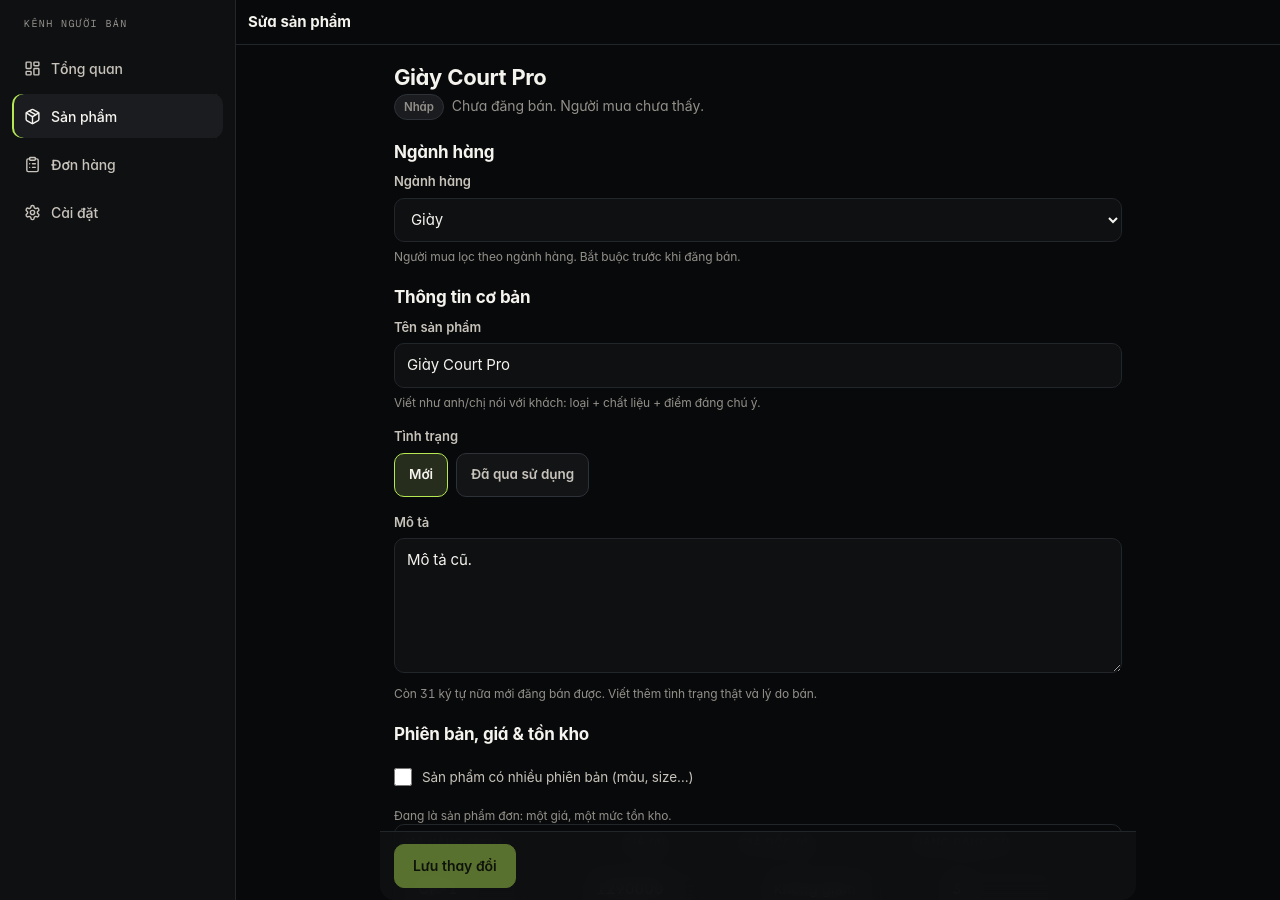
Test: no save branch can strand the button on Đang lưu… › shows the conflict panel for a stale version, not the generic error
Replace the text in the field labelled "Tên sản phẩm" with "Tên mới" at (758, 365), box [394,343,1122,388]
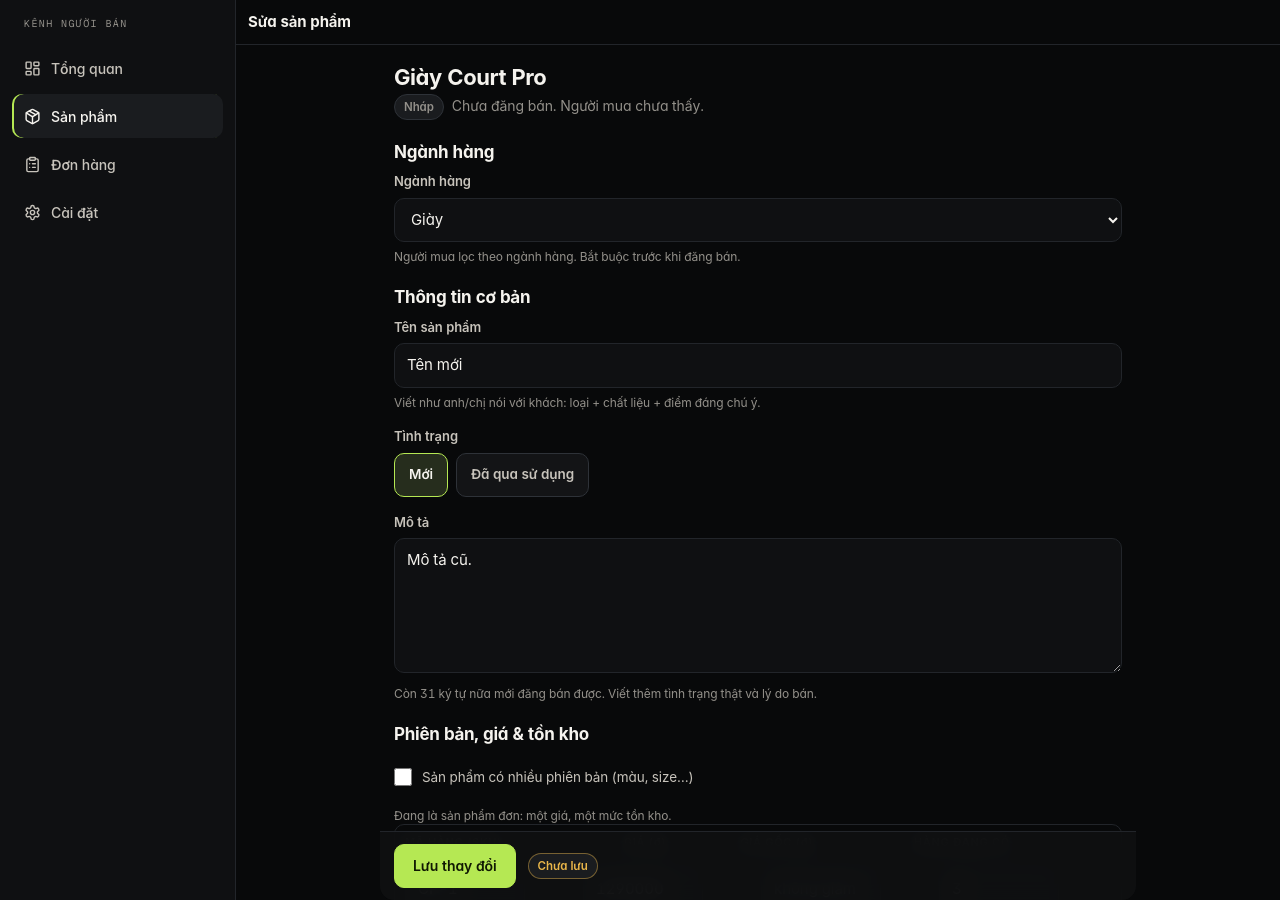
Click the button "Lưu thay đổi" at (455, 866), box [394,844,516,888]
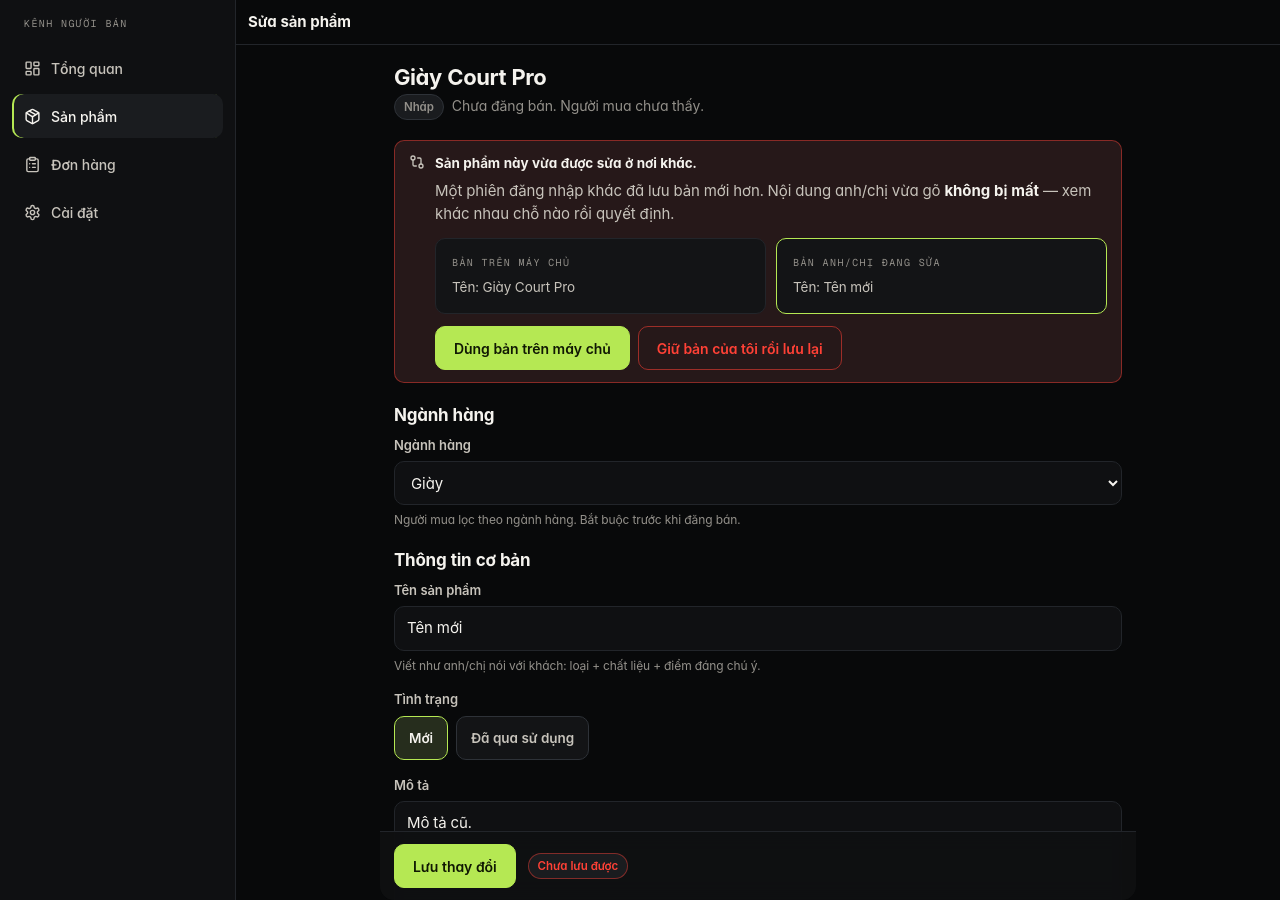
Check: the text "Sản phẩm này vừa được sửa ở nơi khác." is shown, box [435,155,696,171]
Check: the button "Dùng bản trên máy chủ" is shown, box [435,326,630,370]
